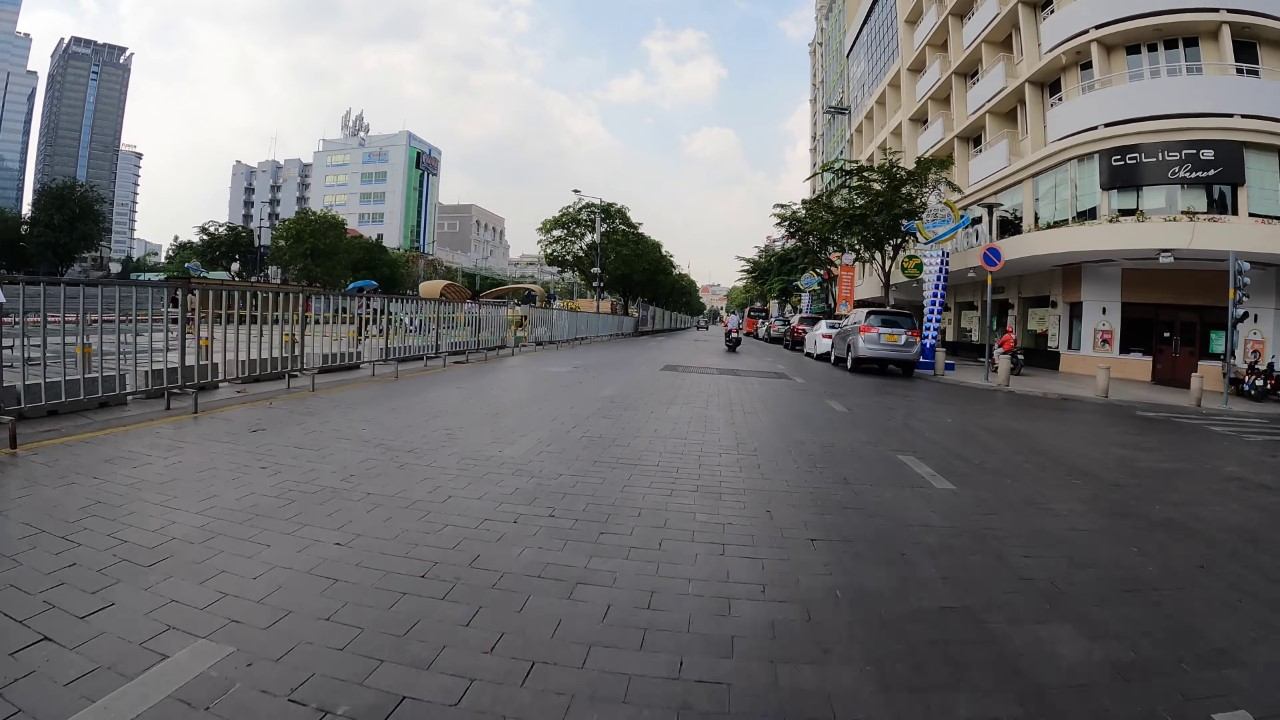cam_do_xe: (975, 240, 1009, 273)
